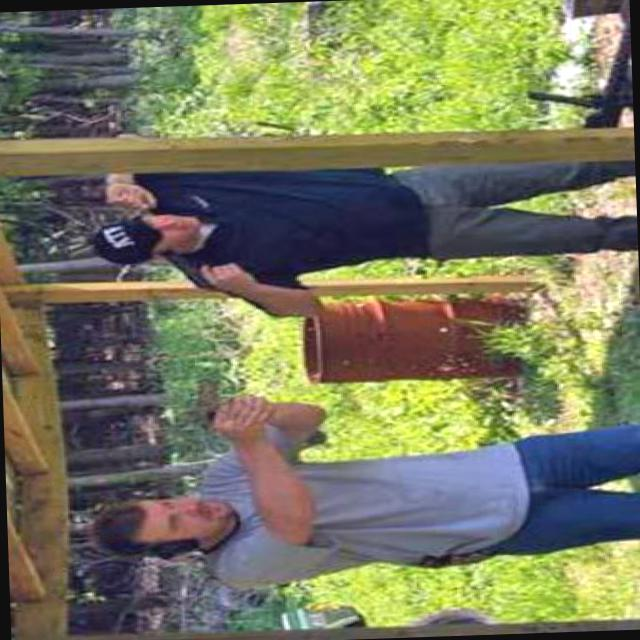handgun: (166, 366, 268, 436), (152, 248, 238, 296)
